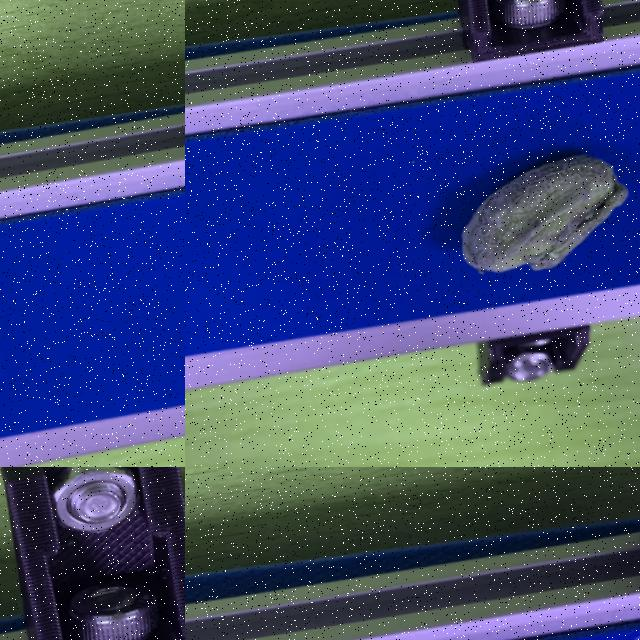Agglomerated_cocoabeans: (350, 120, 639, 328)
